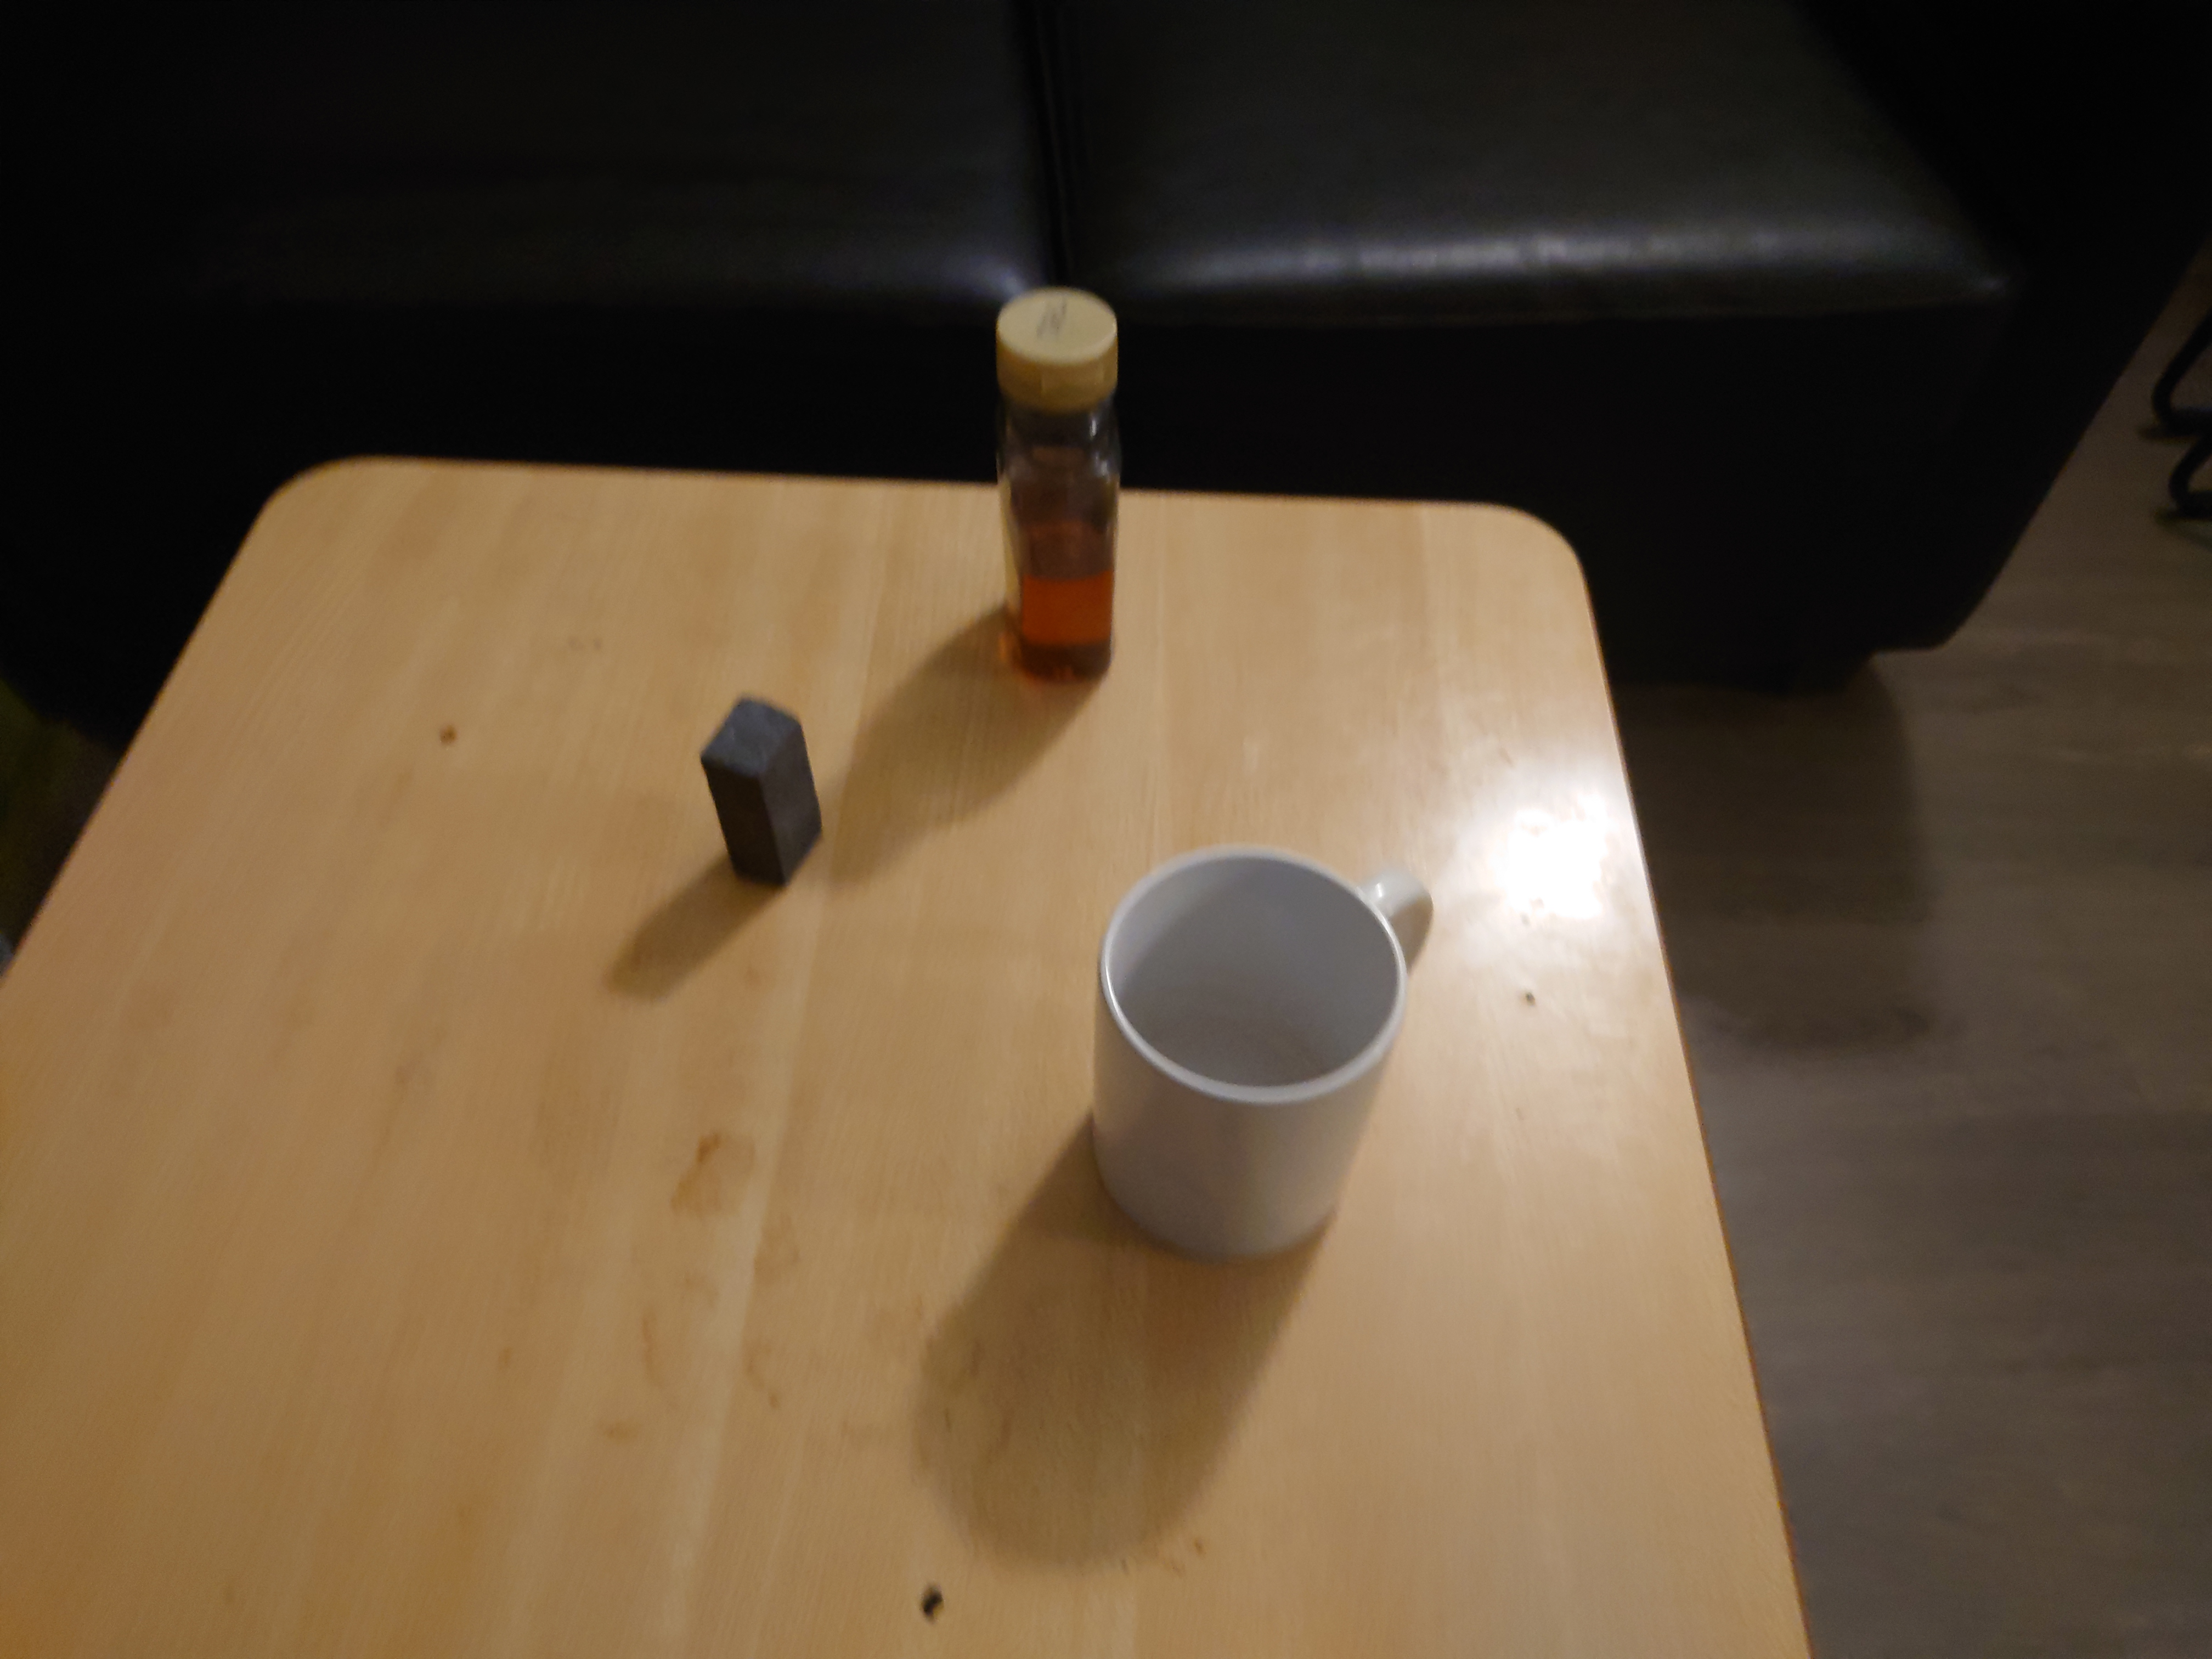cup: (1080, 849, 1430, 1262)
target: (697, 692, 826, 894)
